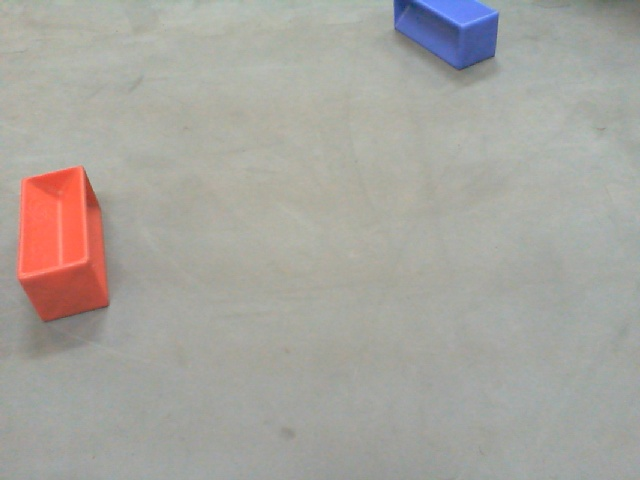BlueSample: (394, 1, 503, 74)
RedSample: (16, 161, 108, 326)
